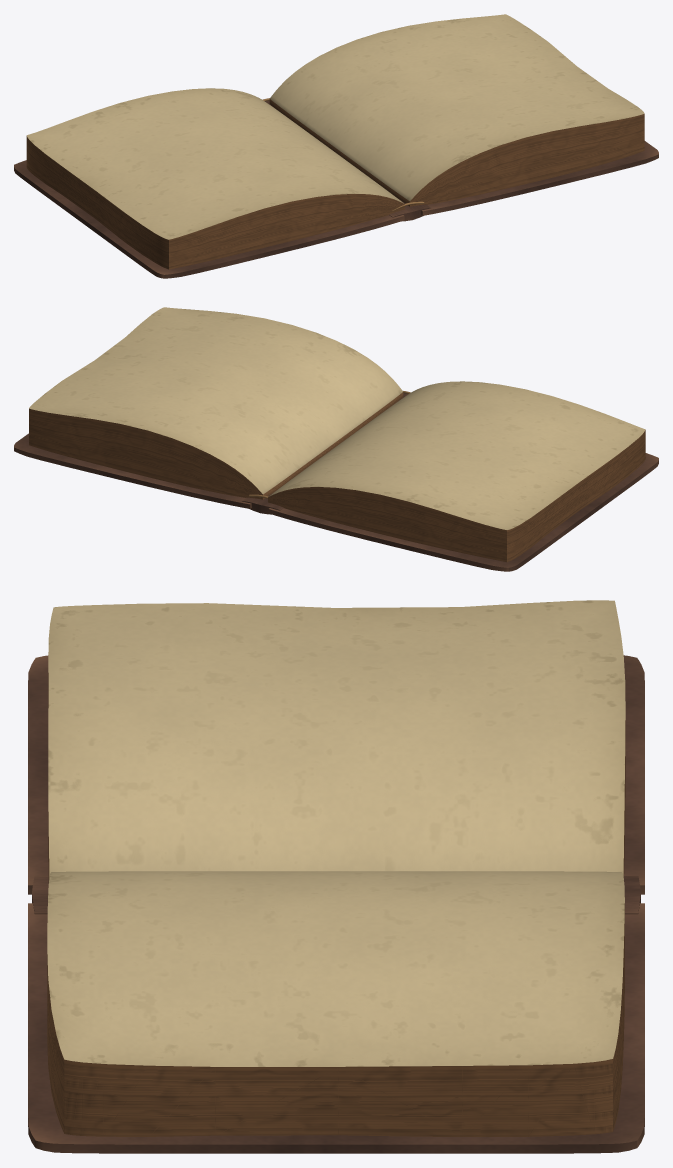
File: OpenBook_06.fbx
3 views of the same model, one above another, from view 1: azimuth 30°, elevation 25°; view 2: azimuth 150°, elevation 25°; view 3: azimuth 270°, elevation 25° (orthographic). The views are drawn at different scales.
Parts seen in each view (by area): view 1: OpenBook_06.001; view 2: OpenBook_06.001; view 3: OpenBook_06.001.
Part boxes in pixels (<box>): OpenBook_06.001: <box>14,14,658,278</box>; OpenBook_06.001: <box>14,307,658,571</box>; OpenBook_06.001: <box>28,600,644,1153</box>.
Bounding box in the file's own units: 0.439 × 0.0429 × 0.234.
